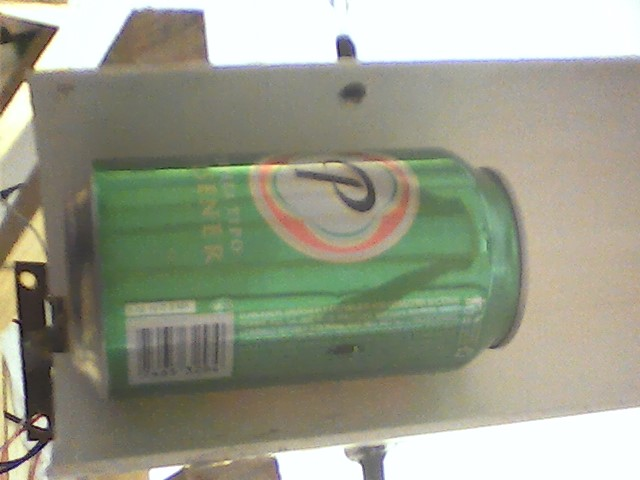lata: (58, 142, 534, 407)
